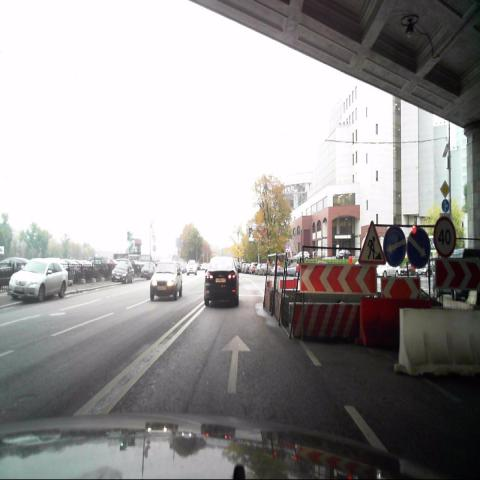4_2_2: (383, 224, 405, 266)
